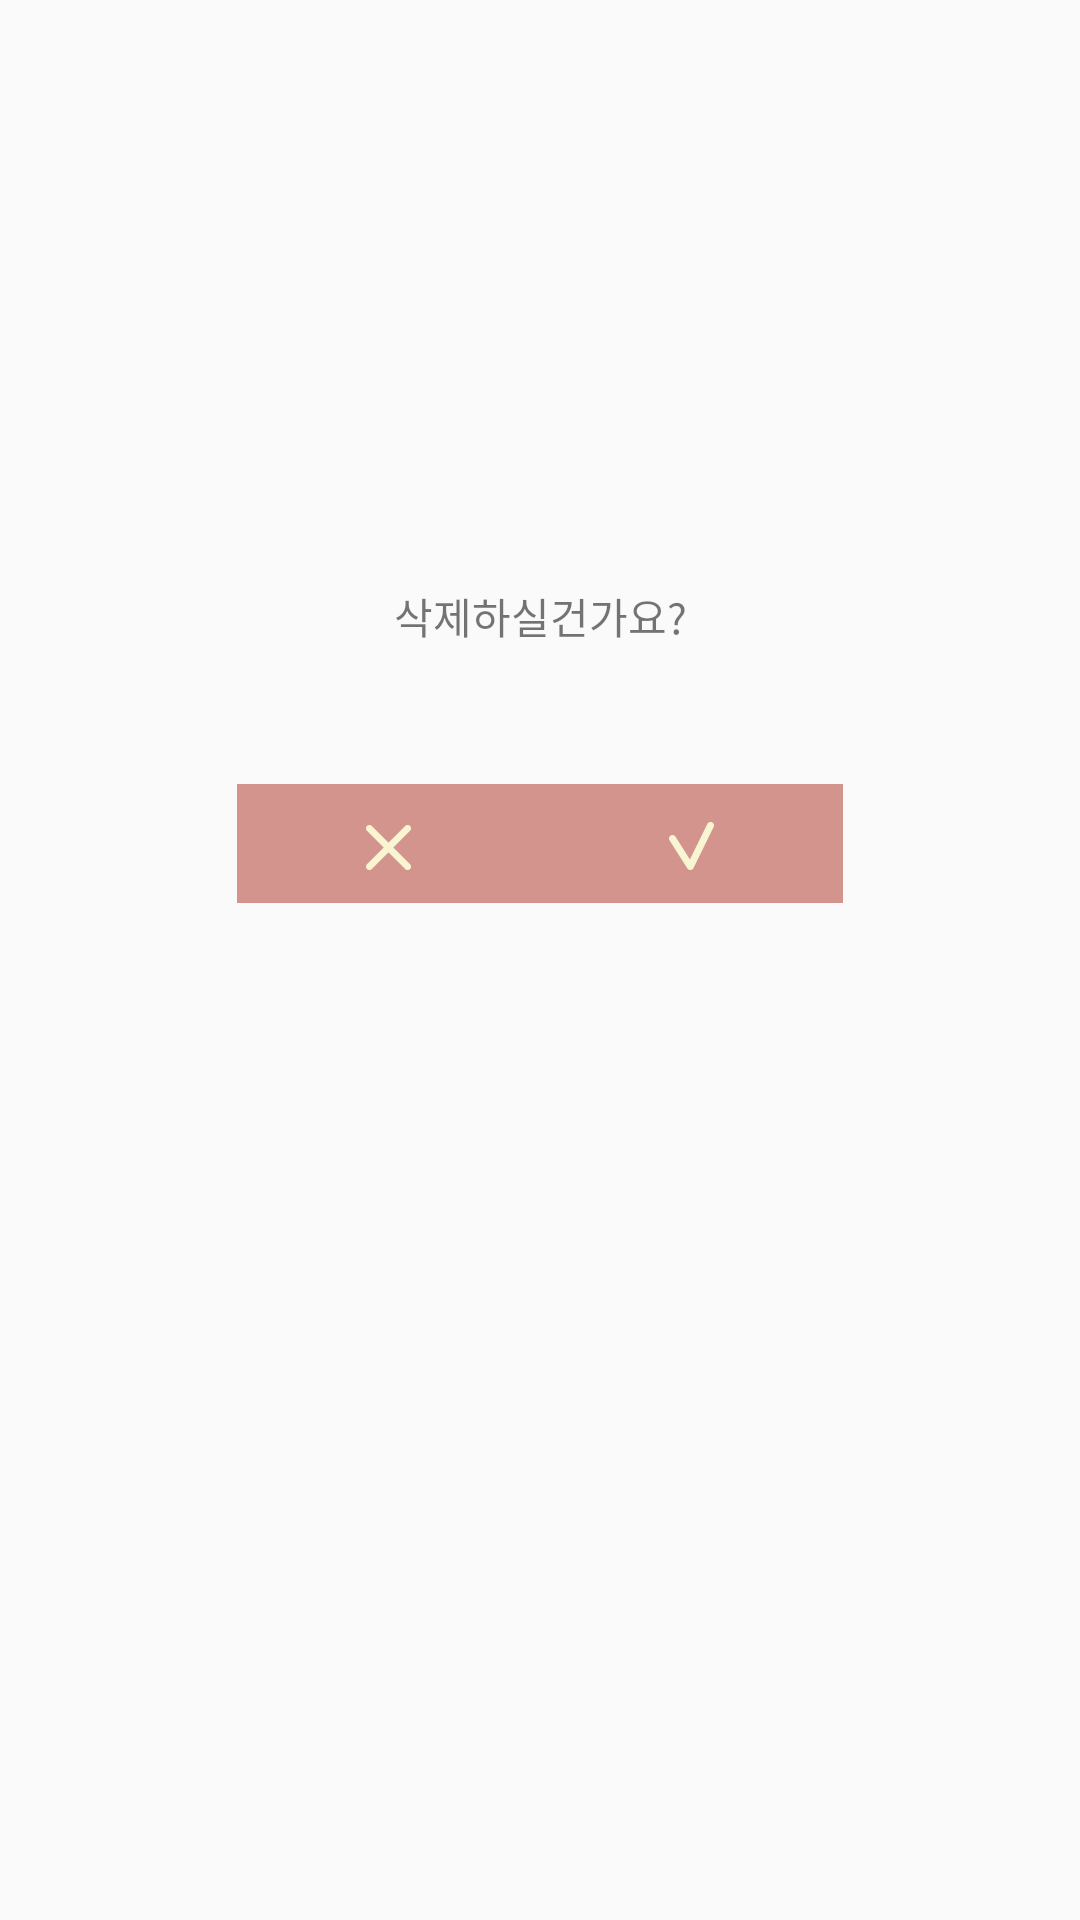

Named icons in this screenshot (1080w x 1920h) and their centers, point (x, y):
yes: point (691, 843)
